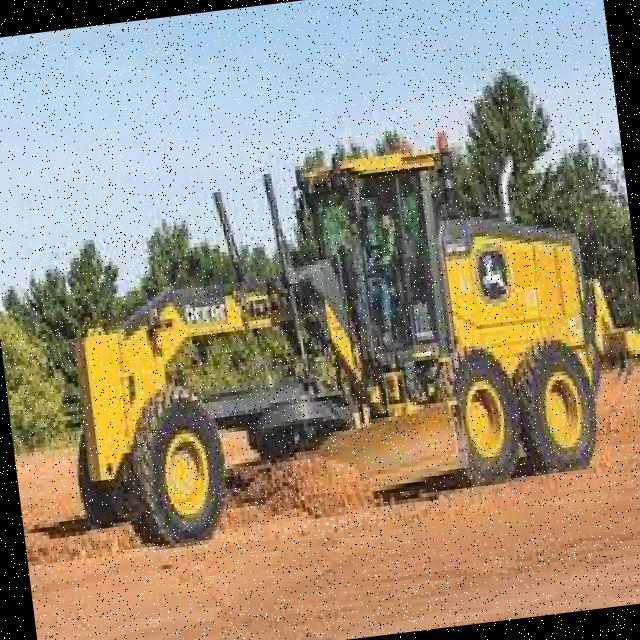Grader: (28, 94, 640, 599)
